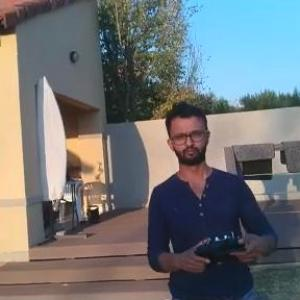follow: (144, 92, 285, 299)
